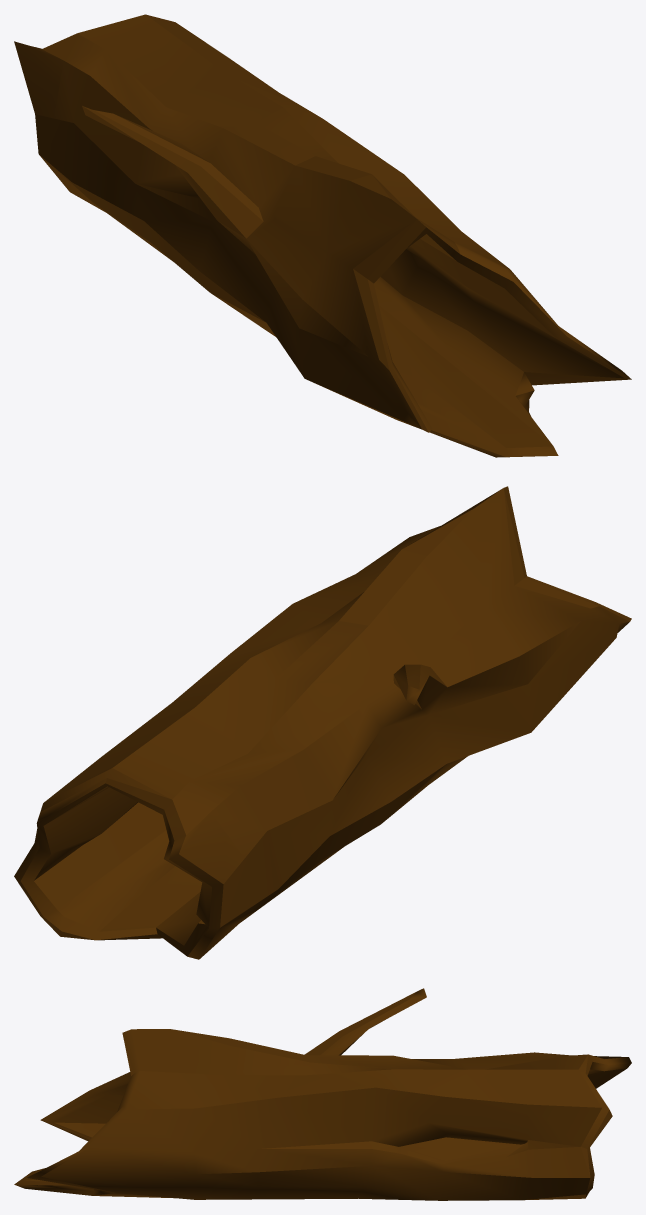
Rendered from fallenlog.fbx.
3 renders of one model, top to bottom at view 1: azimuth 30°, elevation 25°; view 2: azimuth 150°, elevation 25°; view 3: azimuth 270°, elevation 25°, orthographic. The views are drawn at different scales.
Parts seen in each view (by area): view 1: pPipe1; view 2: pPipe1; view 3: pPipe1.
Part boxes in pixels (bbox=[...]): pPipe1: bbox=[14, 14, 631, 457]; pPipe1: bbox=[14, 486, 631, 959]; pPipe1: bbox=[14, 988, 631, 1200].
Bounding box in the file's own units: 67.81 × 47.98 × 189.
